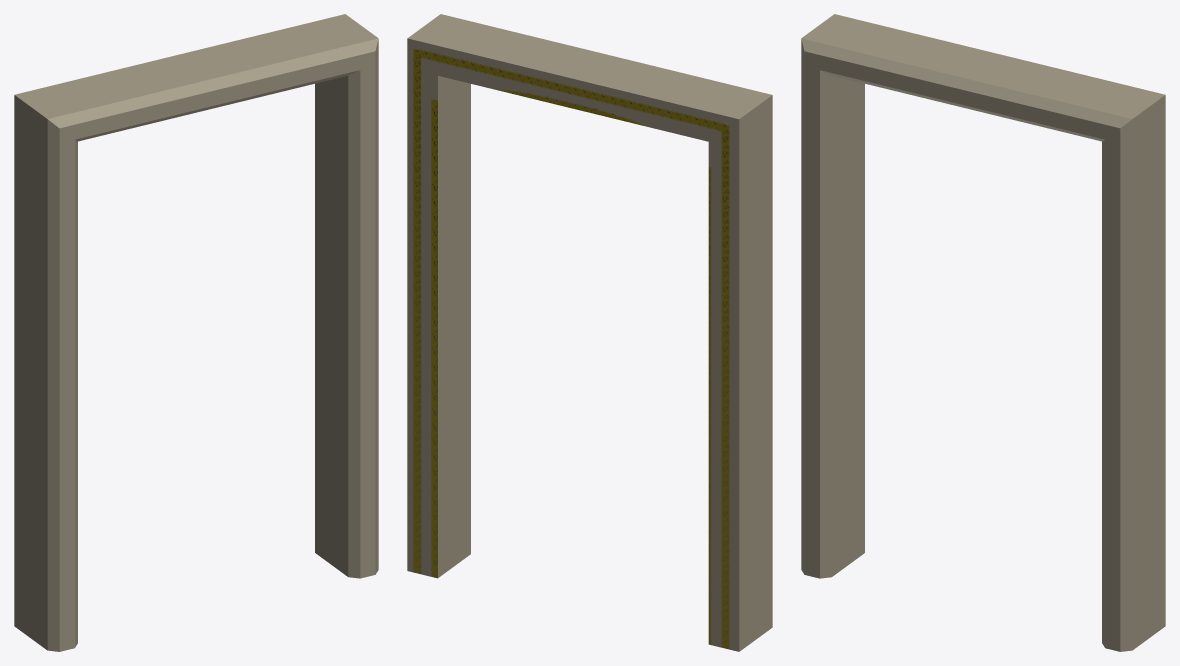
The model's file is Frame_Door.fbx.
3 views of the same model, side by side, from view 1: azimuth 30°, elevation 25°; view 2: azimuth 150°, elevation 25°; view 3: azimuth 330°, elevation 25° (orthographic).
Visible parts, largest first — view 1: Frame_Door; view 2: Frame_Door; view 3: Frame_Door.
Part boxes in pixels (<box>): Frame_Door: <box>14,14,378,651</box>; Frame_Door: <box>407,14,772,651</box>; Frame_Door: <box>801,14,1165,651</box>.
Bounding box in the file's own units: 194 × 297 × 38.12.
